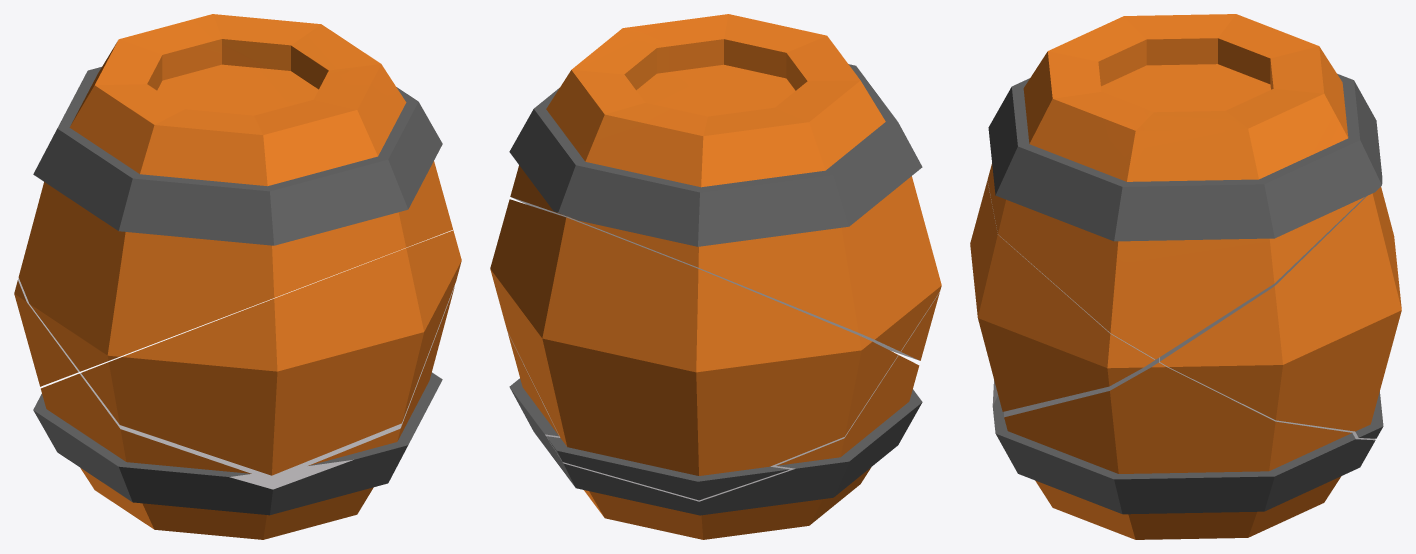
Rendered from Orange_Barrel_DEST.fbx.
The picture shows the model from 3 angles, left to right: view 1: azimuth 30°, elevation 25°; view 2: azimuth 150°, elevation 25°; view 3: azimuth 270°, elevation 25°; orthographic projection.
Parts seen in each view (by area): view 1: polySurface115.002, polySurface115.003, polySurface115, polySurface115.001; view 2: polySurface115.002, polySurface115.001, polySurface115, polySurface115.003; view 3: polySurface115.002, polySurface115, polySurface115.001, polySurface115.003.
Part boxes in pixels (left/top/right/bottom): polySurface115.002: left=18, top=14, right=452, bottom=371; polySurface115.003: left=81, top=230, right=461, bottom=475; polySurface115: left=33, top=285, right=454, bottom=539; polySurface115.001: left=14, top=278, right=79, bottom=386; polySurface115.002: left=509, top=14, right=941, bottom=351; polySurface115.001: left=490, top=199, right=897, bottom=500; polySurface115: left=507, top=332, right=922, bottom=539; polySurface115.003: left=863, top=292, right=939, bottom=360; polySurface115.002: left=987, top=14, right=1382, bottom=359; polySurface115: left=992, top=357, right=1375, bottom=539; polySurface115.001: left=1159, top=187, right=1401, bottom=438; polySurface115.003: left=970, top=180, right=1154, bottom=411.
Bounding box in the file's own units: 349 × 365 × 349.
